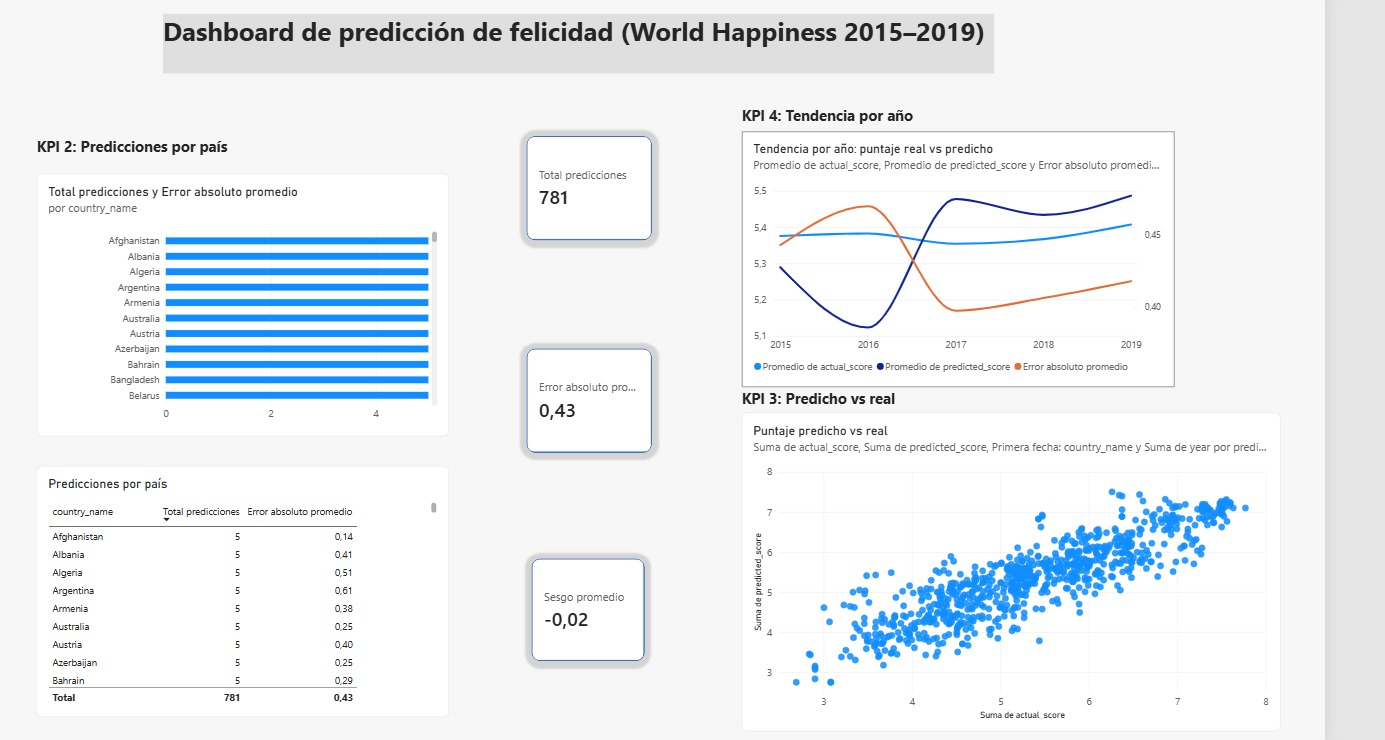

What the dashboard file says about the page in this screenshot:
{"tool":"powerbi","page":{"name":"Página 1","canvas":[1920,1080],"ordinal":0},"visuals":[{"type":"clusteredBarChart","fields":{"Category":["public vw_predictions_detail.country_name"],"Y":["public vw_predictions_detail.Total predicciones"]},"box":[56.1,258.8,597.2,380],"z":0},{"type":"tableEx","title":"Predicciones por país","fields":{"Values":["public vw_predictions_detail.country_name","public vw_predictions_detail.Total predicciones","public vw_predictions_detail.Error absoluto promedio"]},"box":[56.7,681.7,596.7,363.3],"z":1000},{"type":"scatterChart","title":"Puntaje predicho vs real","fields":{"Category":["public vw_predictions_detail.prediction_id"],"X":["Sum(public vw_predictions_detail.actual_score)"],"Y":["Sum(public vw_predictions_detail.predicted_score)"]},"box":[1076.7,604.4,780,461.5],"z":2000},{"type":"lineChart","title":"Tendencia por año: puntaje real vs predicho","fields":{"Category":["public vw_predictions_detail.year"],"Y":["Avg(public vw_predictions_detail.actual_score)","Avg(public vw_predictions_detail.predicted_score)"],"Y2":["public vw_predictions_detail.Error absoluto promedio"]},"box":[1076.7,197.3,626.7,371.7],"z":3000},{"type":"textbox","box":[238.3,26.7,1203.3,86.7],"z":4000},{"type":"cardVisual","fields":{"Data":["public vw_predictions_detail.Total predicciones"]},"box":[765,205,181,150],"z":5000},{"type":"cardVisual","fields":{"Data":["public vw_predictions_detail.Error absoluto promedio"]},"box":[765,511.7,181,150],"z":6000},{"type":"cardVisual","fields":{"Data":["public vw_predictions_detail.Sesgo promedio"]},"box":[773.3,816.7,163.3,148.3],"z":7000},{"type":"textbox","box":[56.1,204.5,327.5,36.2],"z":8000},{"type":"textbox","box":[1076.7,568.2,228,36.2],"z":9000},{"type":"textbox","box":[1076.7,159.3,287.7,38],"z":9001},{"type":"textbox","box":[56.1,649.7,311.3,32.6],"z":9002}]}

Visuals, with their boxes on the page's 1920x1080 design canvas (x1, y1, x2, y2). These are canvas units, not pixel positions in the 1385x740 screenshot, which may show the page scaled, cropped or inside an application window:
clusteredBarChart - public vw_predictions_detail.country_name x public vw_predictions_detail.Total predicciones: <box>56,259,653,639</box>
"Predicciones por país" tableEx: <box>57,682,653,1045</box>
"Puntaje predicho vs real" scatterChart: <box>1077,604,1857,1066</box>
"Tendencia por año: puntaje real vs predicho" lineChart: <box>1077,197,1703,569</box>
textbox: <box>238,27,1442,113</box>
cardVisual - public vw_predictions_detail.Total predicciones: <box>765,205,946,355</box>
cardVisual - public vw_predictions_detail.Error absoluto promedio: <box>765,512,946,662</box>
cardVisual - public vw_predictions_detail.Sesgo promedio: <box>773,817,937,965</box>
textbox: <box>56,204,384,241</box>
textbox: <box>1077,568,1305,604</box>
textbox: <box>1077,159,1364,197</box>
textbox: <box>56,650,367,682</box>
